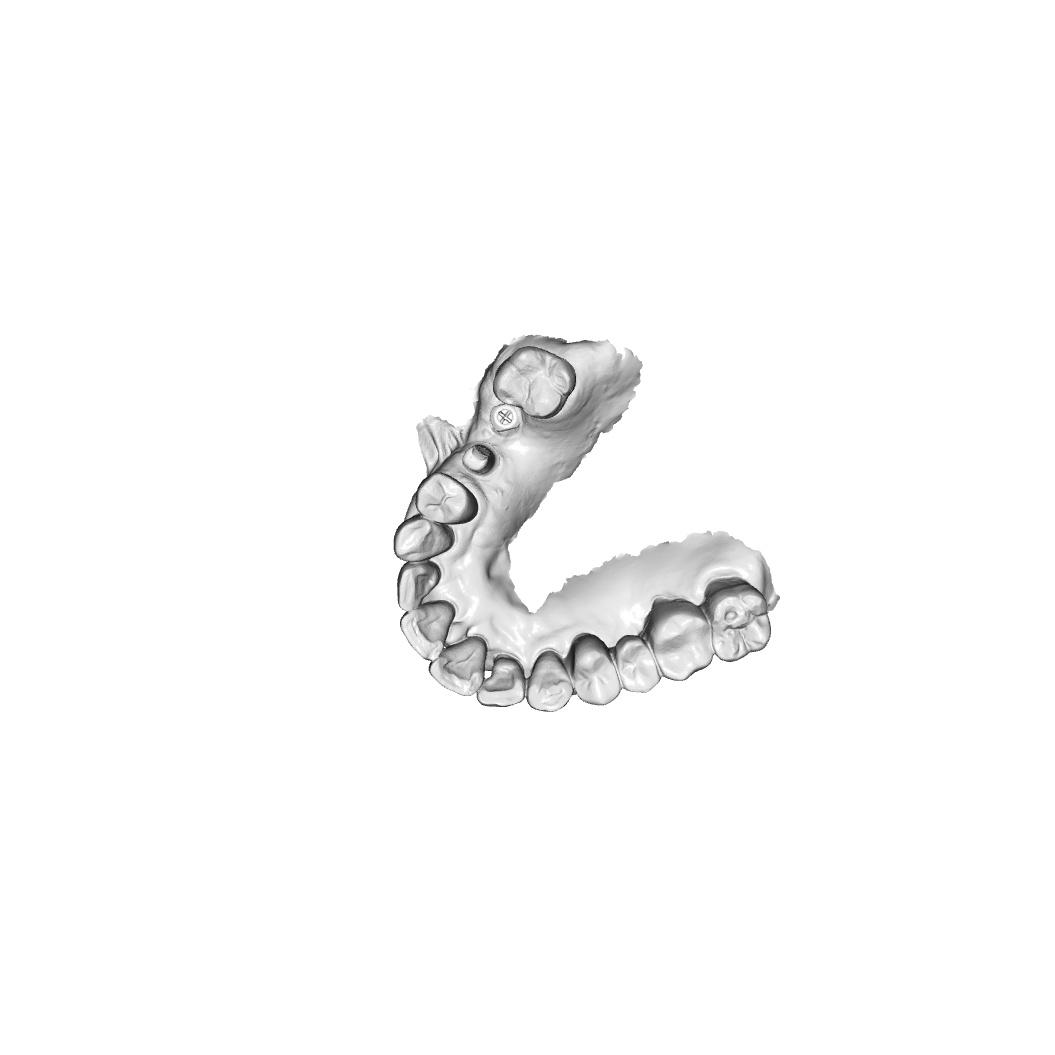abutment: (461, 440, 500, 477)
canine: (525, 649, 574, 712), (393, 513, 455, 562)
implant_plus: (489, 403, 524, 433)
incisor: (428, 635, 488, 697), (399, 600, 456, 662), (476, 657, 525, 708), (396, 561, 442, 612)
molar: (492, 345, 577, 420), (643, 598, 714, 682), (705, 582, 772, 663)
premolar: (571, 632, 622, 707), (414, 471, 479, 526), (614, 634, 662, 694)
